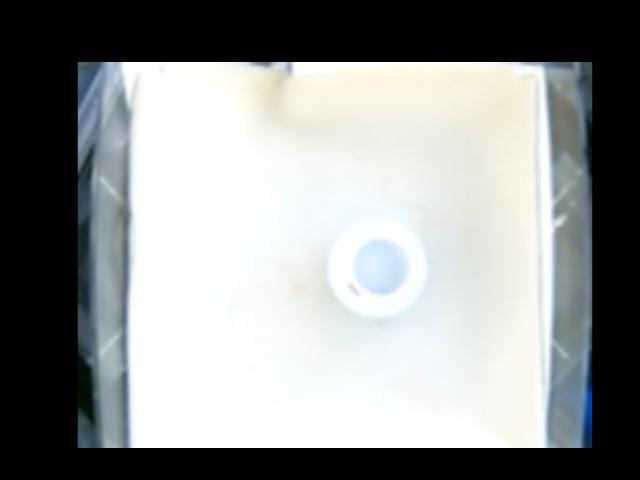Bottle: (326, 219, 429, 317)
